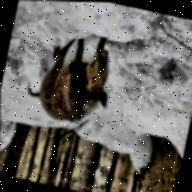boar: (4, 22, 118, 144)
